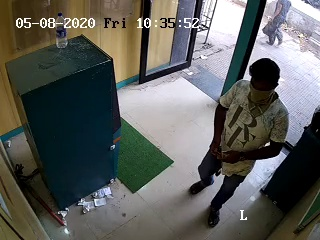open: (137, 3, 238, 111)
